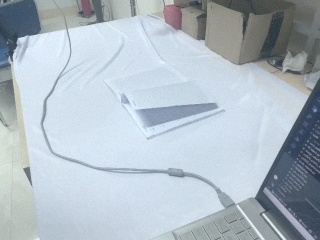box: (203, 1, 294, 65), (180, 2, 207, 42)
